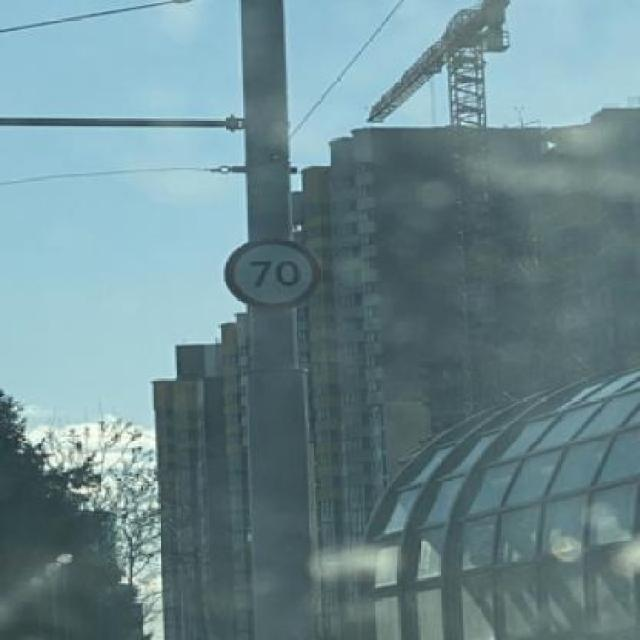forb_speed_over_70: (224, 238, 322, 307)
